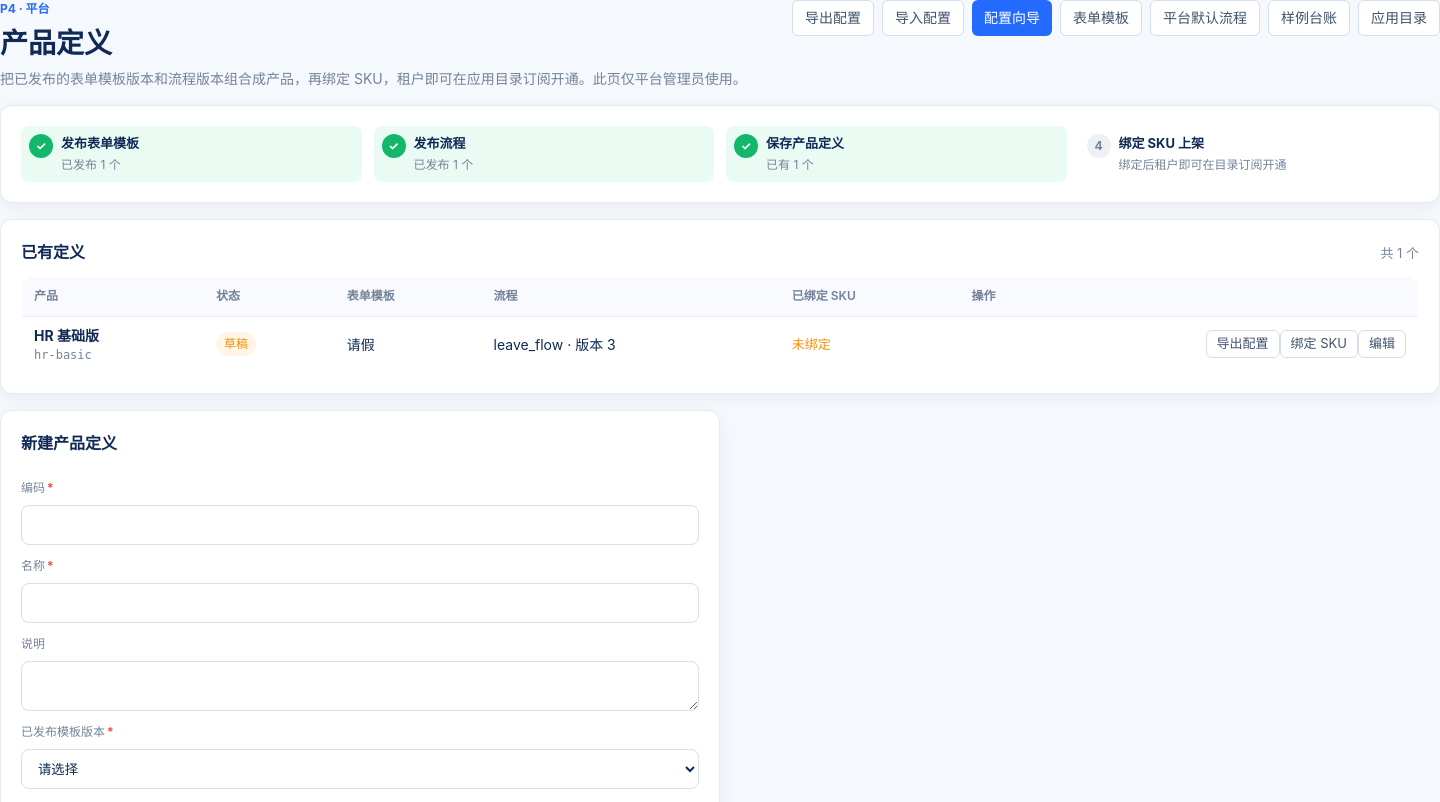
Scenario: IM7 import config against real API › opens import panel with skip as the default conflict strategy
Click the button with test id "import-config".
click(923, 18)  # box [882, 0, 964, 36]
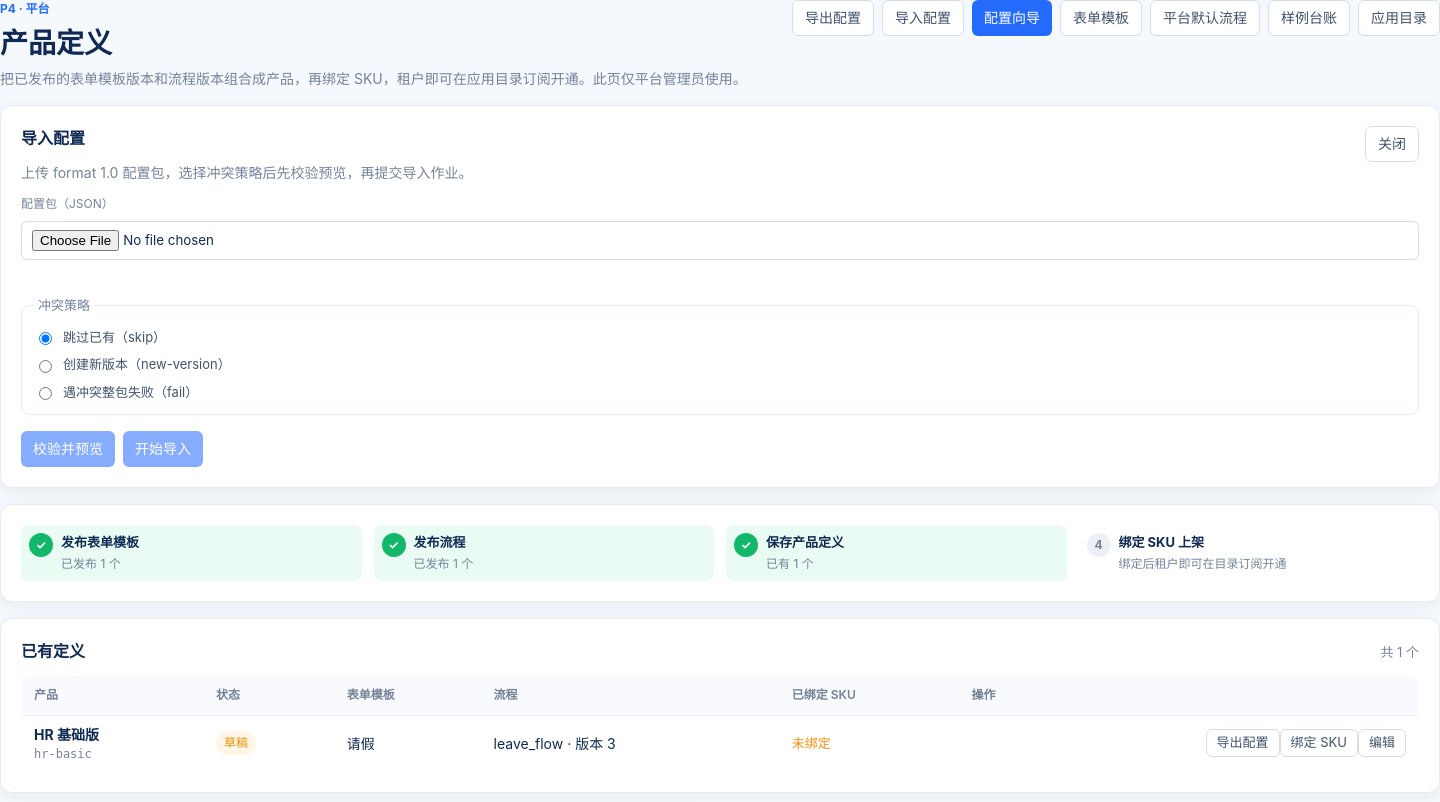
Now the element with test id "import-config-panel" is shown, box [0, 105, 1439, 488]
Now the radio button labelled "跳过已有（skip）" is checked, box [39, 332, 52, 345]
Now the element with test id "import-config-panel" shows "开始导入", box [123, 431, 203, 467]
